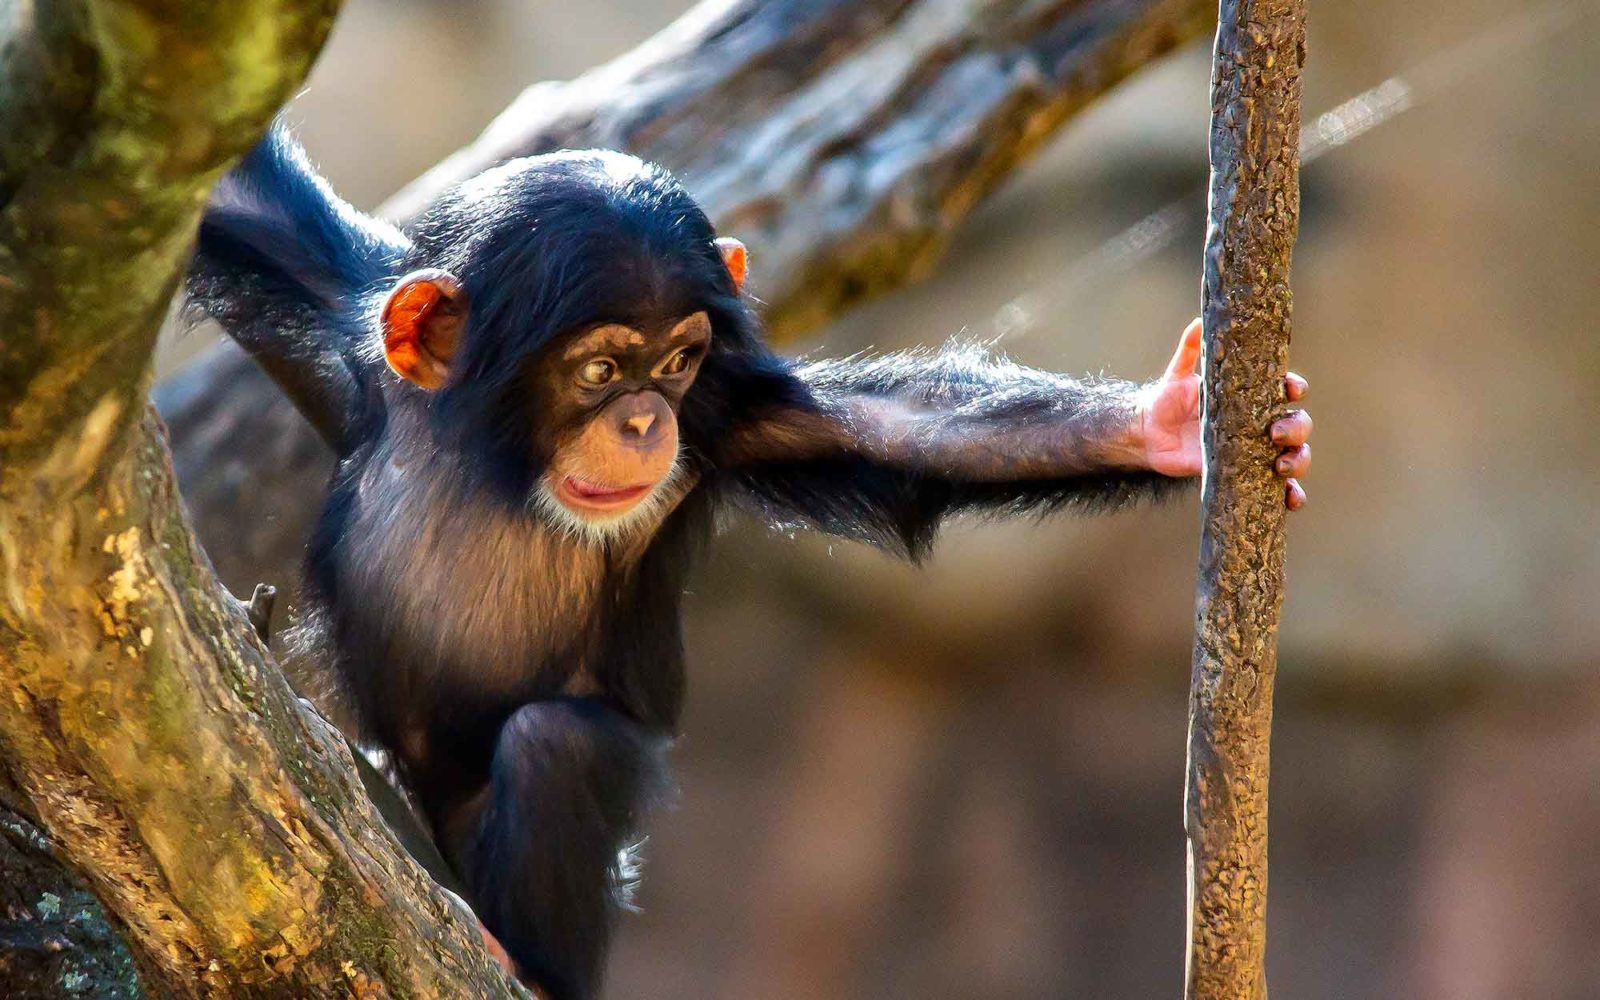Champanze: (376, 136, 753, 884)
